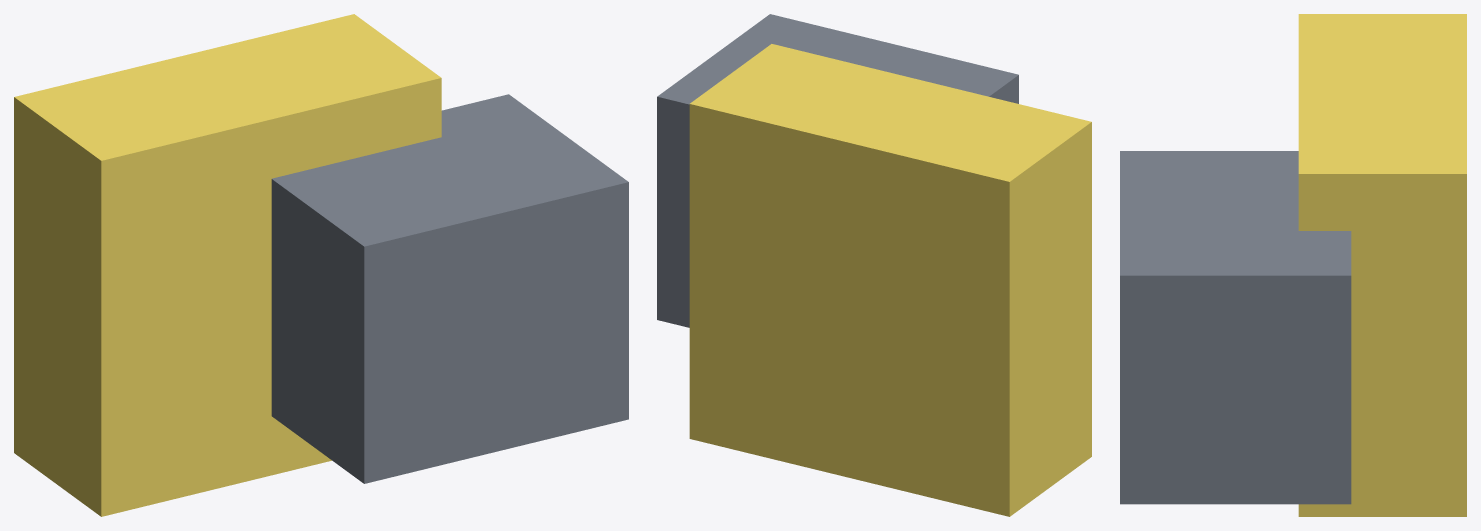
File: turret.glb
The picture shows the model from 3 angles, left to right: view 1: azimuth 30°, elevation 25°; view 2: azimuth 150°, elevation 25°; view 3: azimuth 270°, elevation 25°; orthographic projection. The views are drawn at different scales.
Parts seen in each view (by area): view 1: NOSIMPLIFY_turret; view 2: NOSIMPLIFY_turret; view 3: NOSIMPLIFY_turret.
Boxes of the visible parts, x1,y1,x2,y2 form: NOSIMPLIFY_turret: (14,14,628,516); NOSIMPLIFY_turret: (657,14,1091,516); NOSIMPLIFY_turret: (1120,14,1466,516).
Bounding box in the file's own units: 0.46 × 0.36 × 0.33.
